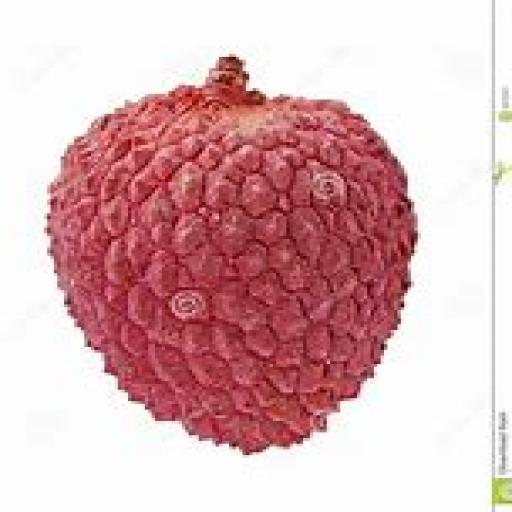lychee: (48, 57, 414, 452)
